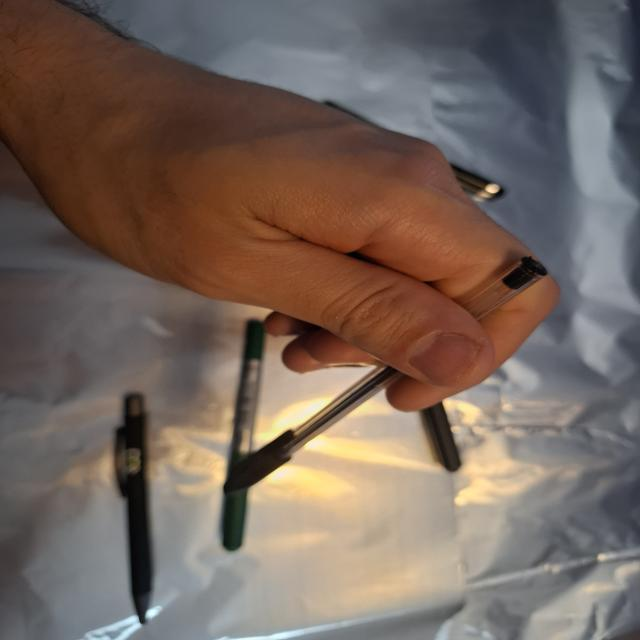glove_off: (6, 11, 561, 410)
